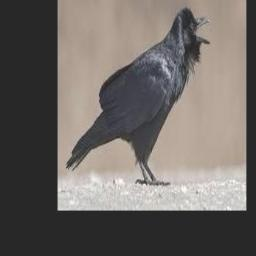Crow: (66, 6, 211, 186)
